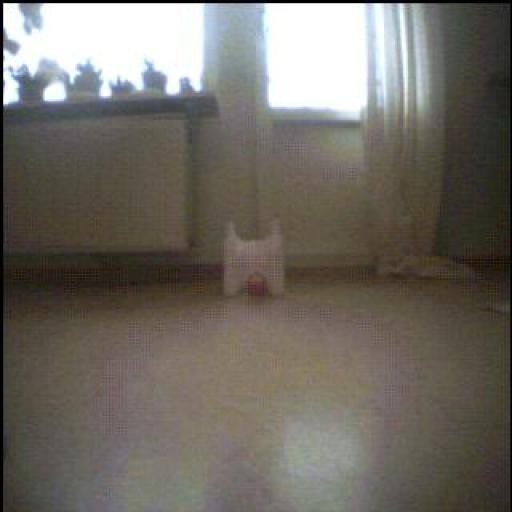Basket: (248, 275, 269, 297)
